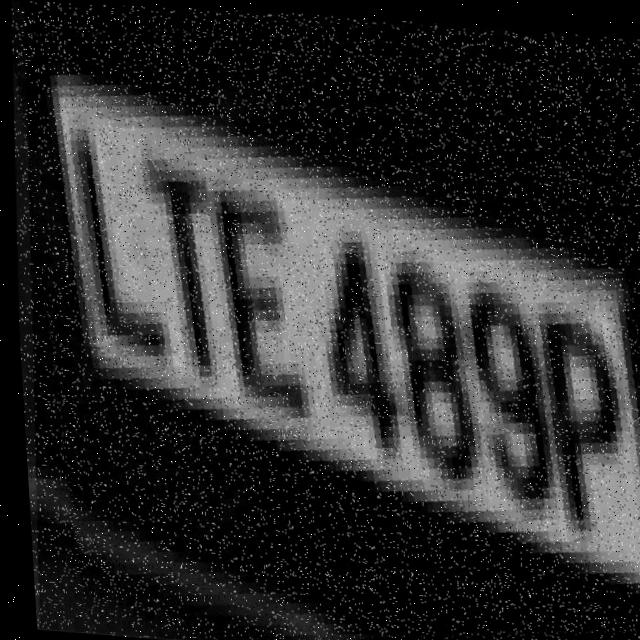LicensePlate: (2, 0, 640, 640)
